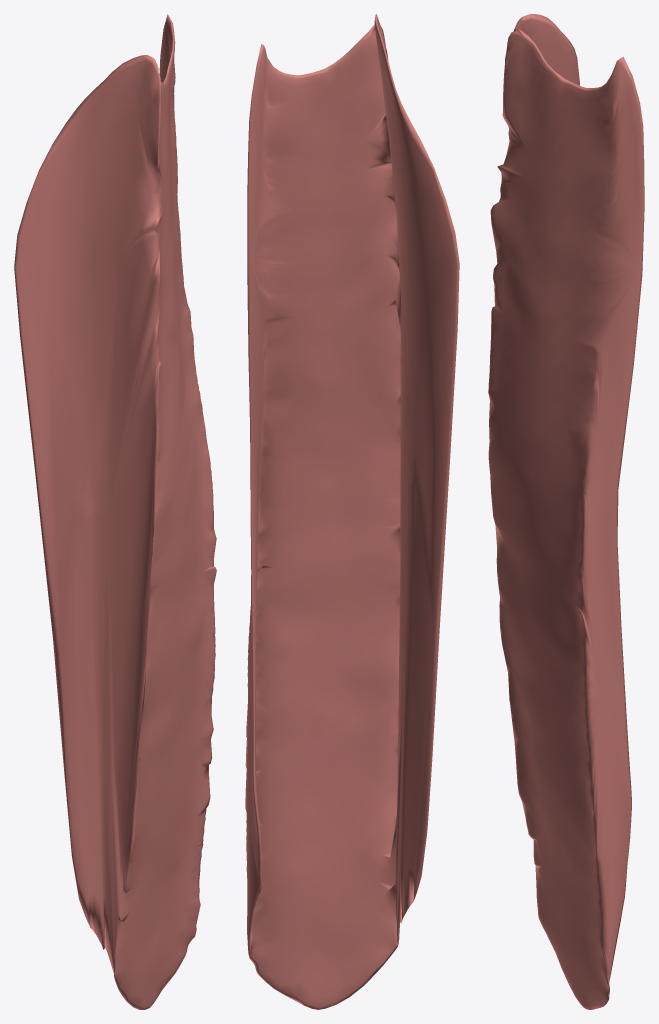
The picture shows the model from 3 angles, left to right: view 1: azimuth 30°, elevation 25°; view 2: azimuth 150°, elevation 25°; view 3: azimuth 270°, elevation 25°; orthographic projection.
Visible parts, largest first — view 1: ZA_afc259001826e3ce; view 2: ZA_afc259001826e3ce; view 3: ZA_afc259001826e3ce.
Part boxes in pixels (<box>): ZA_afc259001826e3ce: <box>14,14,216,1009</box>; ZA_afc259001826e3ce: <box>245,14,459,1009</box>; ZA_afc259001826e3ce: <box>488,14,644,1009</box>.
Size of the model in its own units: 0.0311 by 0.1412 by 0.0204.
